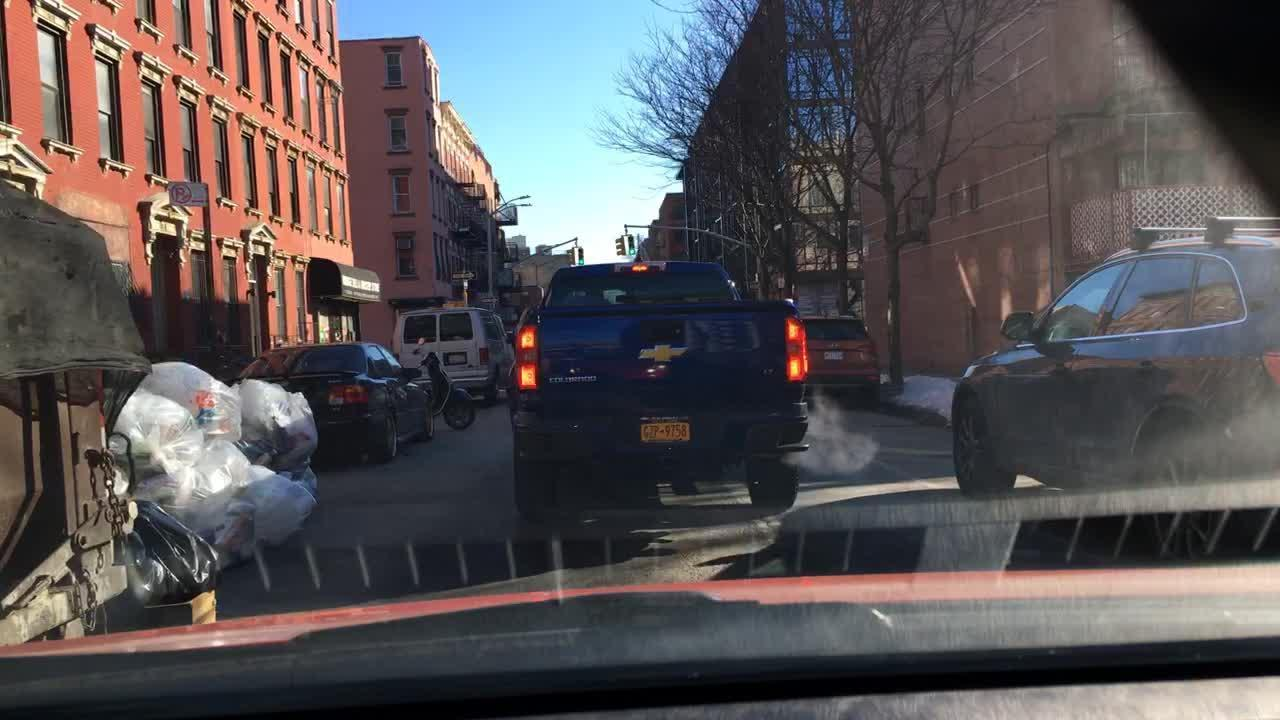chevrolet: (626, 333, 708, 372)
